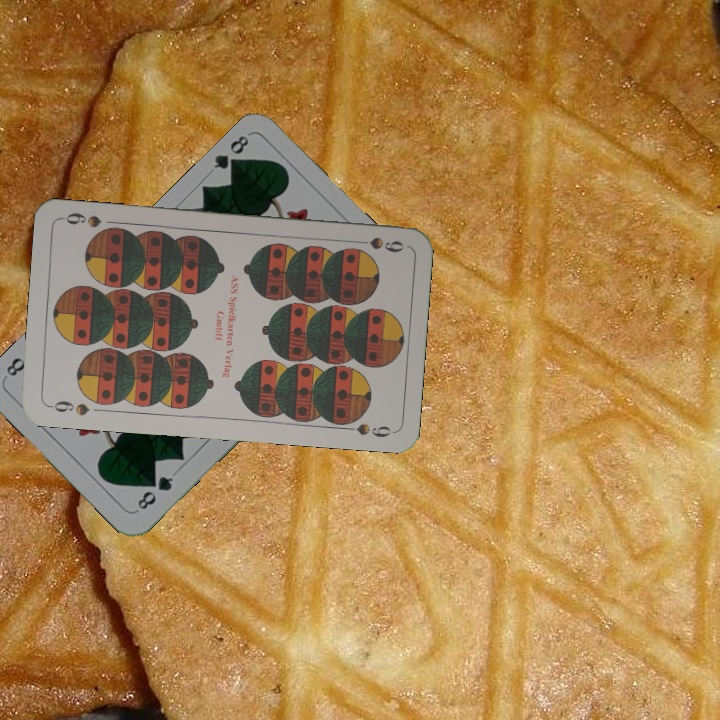G8: (209, 131, 252, 176), (133, 471, 176, 513)
S9: (348, 233, 406, 255), (45, 396, 92, 418)
